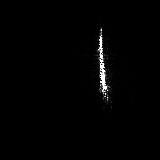ship: (94, 26, 110, 106)
